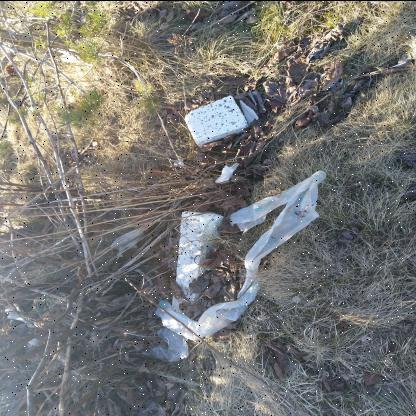foam: (172, 209, 224, 325), (184, 94, 248, 146)
